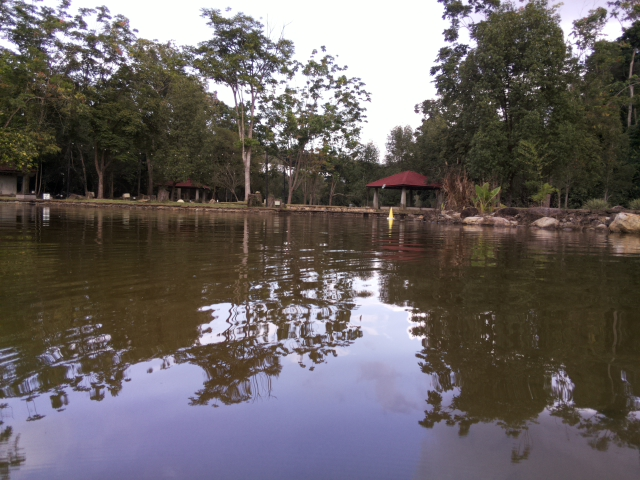checkpoint: (385, 207, 397, 220)
